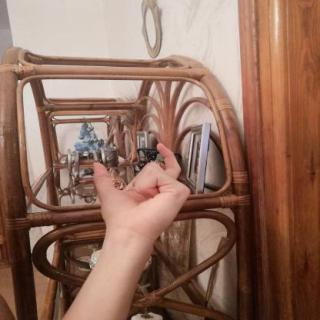NOON: (80, 136, 198, 249)
